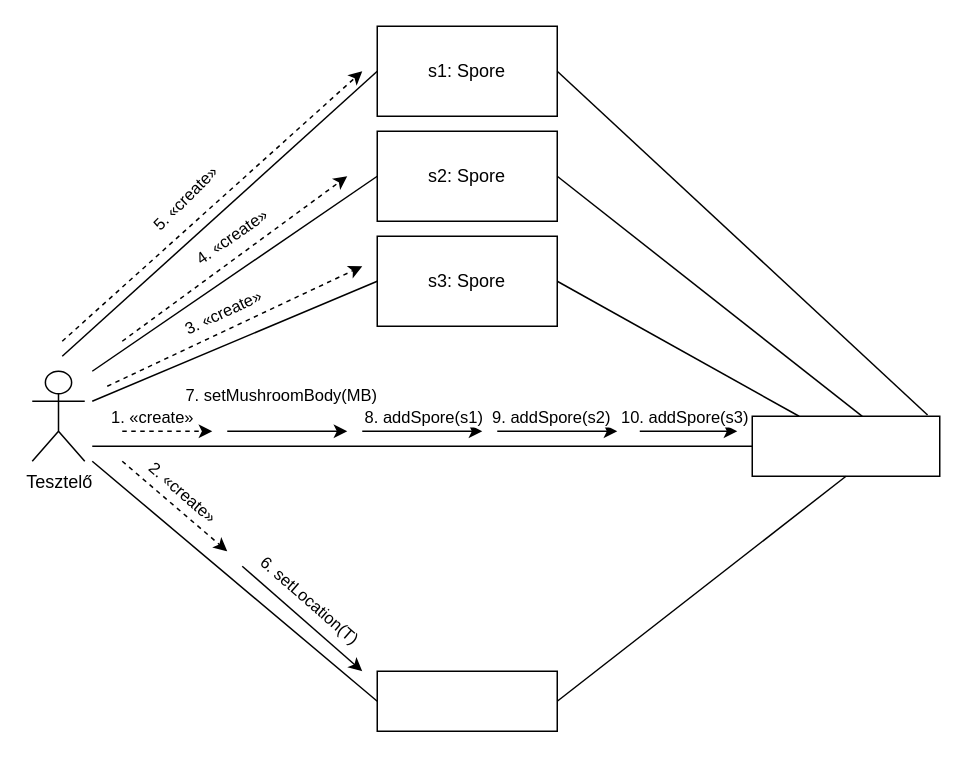
Image size: 966x758. Some labels were removed from this diagram. Here are the shapes that lost their labels. From the top down, the box of each, then its label:
(751, 415, 940, 476): T: Tecton
(376, 670, 557, 731): Mb: MushroomBody
